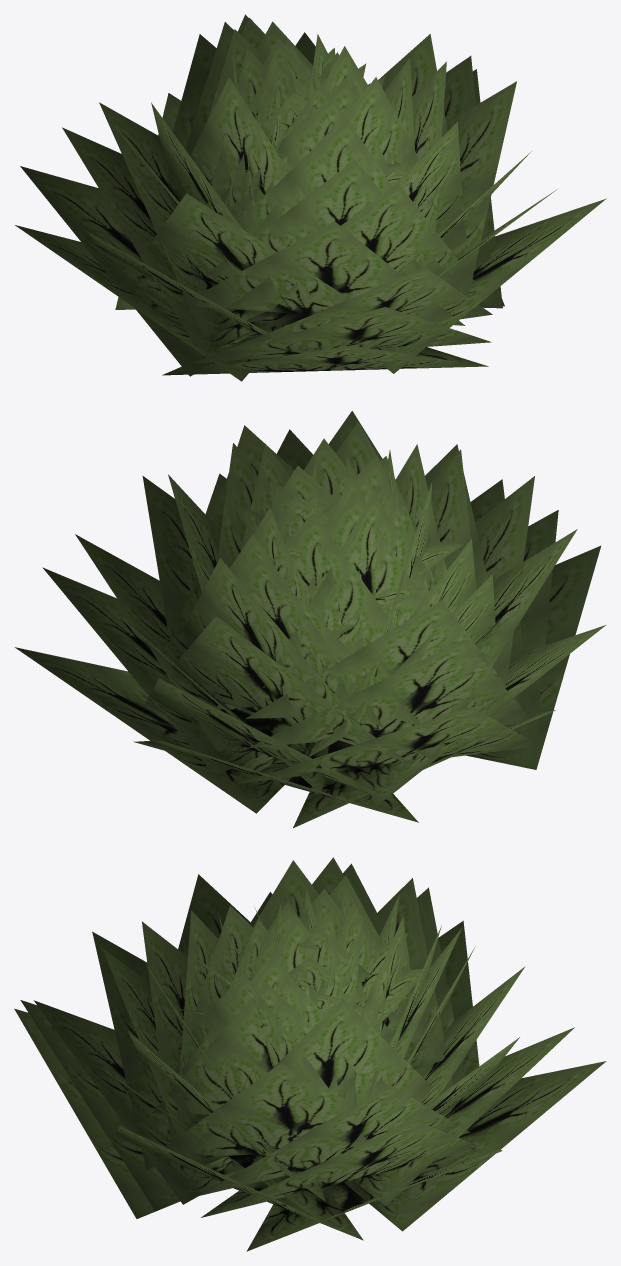
The model's file is Bush_02.fbx.
The picture shows the model from 3 angles, top to bottom: view 1: azimuth 30°, elevation 25°; view 2: azimuth 150°, elevation 25°; view 3: azimuth 270°, elevation 25°; orthographic projection. The views are drawn at different scales.
Visible parts, largest first — view 1: tree.001; view 2: tree.001; view 3: tree.001.
Boxes of the visible parts, box(x1,y1,x2,y2) form: tree.001: box(15, 14, 606, 381); tree.001: box(14, 411, 605, 828); tree.001: box(14, 857, 606, 1251).
Size of the model in its own units: 104 by 60.92 by 113.
